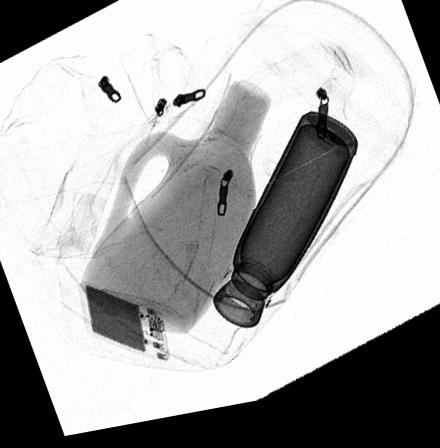Powerbank: (81, 284, 171, 369)
